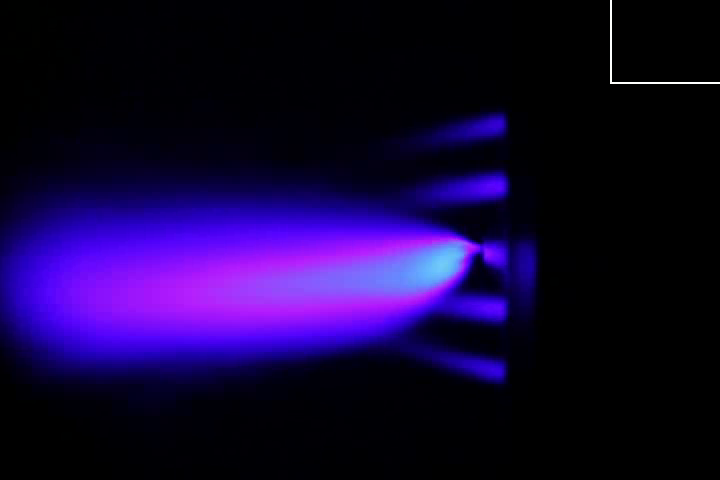burner cap: (482, 236, 509, 273)
pilot flame: (390, 171, 513, 206), (402, 343, 503, 384), (422, 112, 507, 147), (442, 290, 510, 326)
stable: (94, 233, 484, 307)
